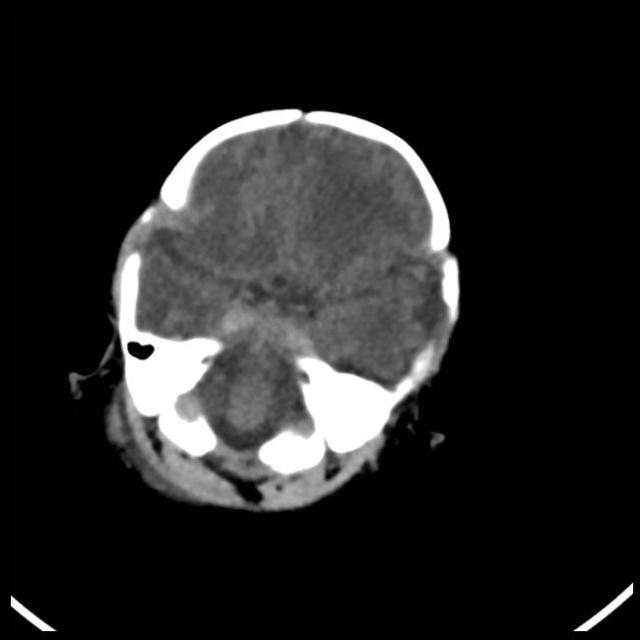lesion: (71, 103, 468, 517)
